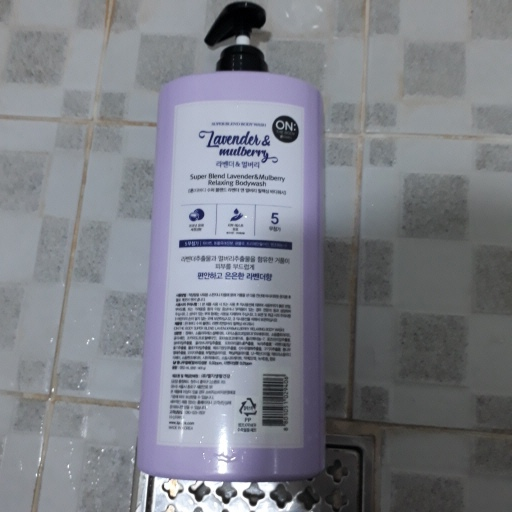Plastic_3: (139, 1, 326, 480)
